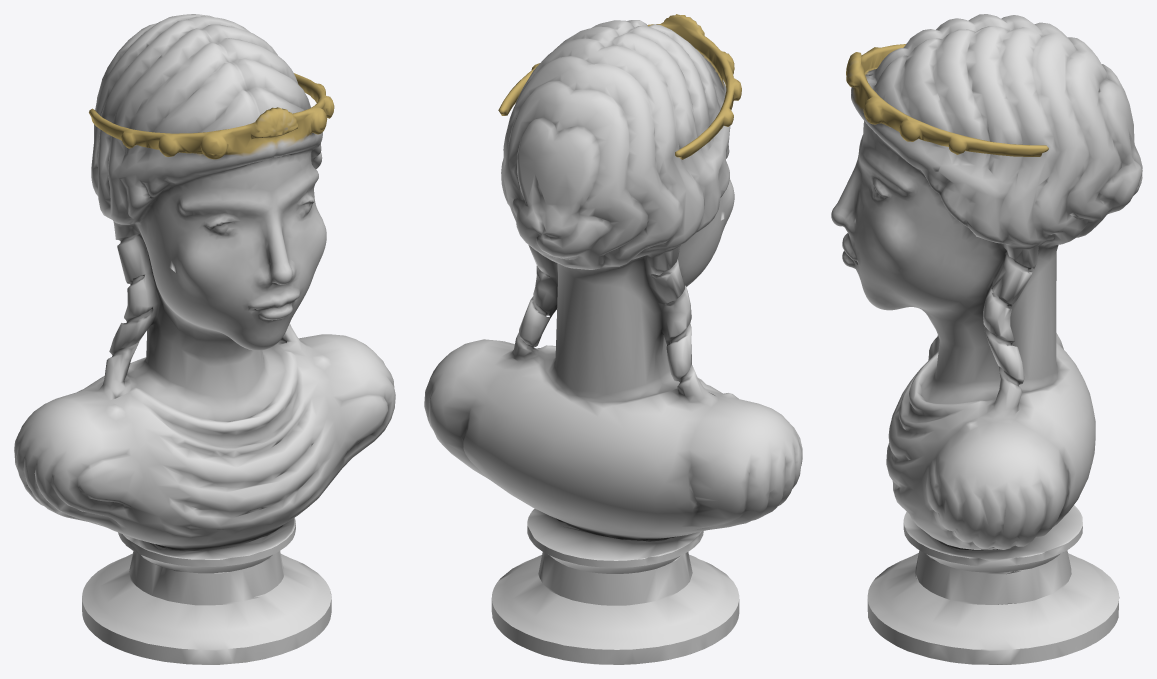
File: goddess_head.glb
The picture shows the model from 3 angles, left to right: view 1: azimuth 30°, elevation 25°; view 2: azimuth 150°, elevation 25°; view 3: azimuth 270°, elevation 25°; orthographic projection.
Visible parts, largest first — view 1: goddess_head; view 2: goddess_head; view 3: goddess_head.
Part boxes in pixels (x1=…): goddess_head: x1=14, y1=14, x2=395, y2=664; goddess_head: x1=424, y1=14, x2=802, y2=664; goddess_head: x1=831, y1=14, x2=1142, y2=664.
Bounding box in the file's own units: 5 × 7.76 × 3.71.
